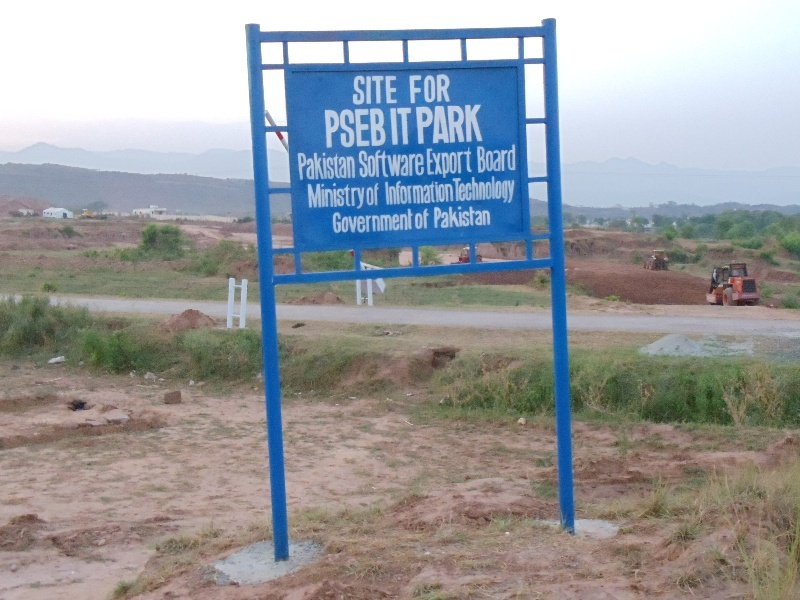text: (337, 108, 352, 149), (353, 108, 368, 149), (369, 108, 384, 149), (417, 105, 432, 145), (433, 105, 448, 145), (449, 105, 464, 145), (465, 105, 480, 145), (324, 108, 336, 149), (433, 147, 448, 179), (449, 147, 464, 179), (353, 76, 368, 106), (369, 76, 384, 106), (389, 107, 400, 147), (401, 107, 412, 147), (481, 145, 496, 174), (497, 145, 512, 174), (305, 152, 320, 181), (321, 152, 336, 181), (337, 152, 352, 181), (369, 149, 384, 178), (385, 149, 400, 178), (401, 149, 416, 178), (417, 75, 432, 104), (433, 75, 448, 104), (465, 175, 480, 204), (481, 175, 496, 204), (497, 175, 512, 204), (385, 76, 399, 106), (337, 208, 352, 235), (353, 208, 368, 235), (369, 208, 384, 235), (385, 208, 400, 235), (385, 180, 400, 206), (401, 180, 416, 206), (417, 180, 432, 206), (433, 180, 448, 206), (321, 184, 336, 209), (337, 184, 352, 209), (452, 175, 464, 204), (433, 206, 448, 229), (449, 206, 464, 229), (465, 206, 480, 229), (307, 184, 320, 209), (401, 208, 413, 235), (353, 184, 365, 209), (358, 149, 368, 178), (465, 147, 474, 179), (417, 208, 430, 230), (369, 183, 380, 207), (481, 206, 492, 229), (417, 149, 425, 178), (409, 75, 416, 104), (426, 147, 432, 179), (298, 152, 304, 181), (449, 180, 454, 206), (481, 105, 484, 145), (513, 145, 517, 174), (449, 75, 453, 104), (477, 145, 480, 174), (353, 152, 356, 181), (513, 175, 516, 204), (333, 208, 336, 235), (414, 208, 416, 230), (385, 108, 386, 149), (415, 105, 416, 145), (367, 183, 368, 207)
